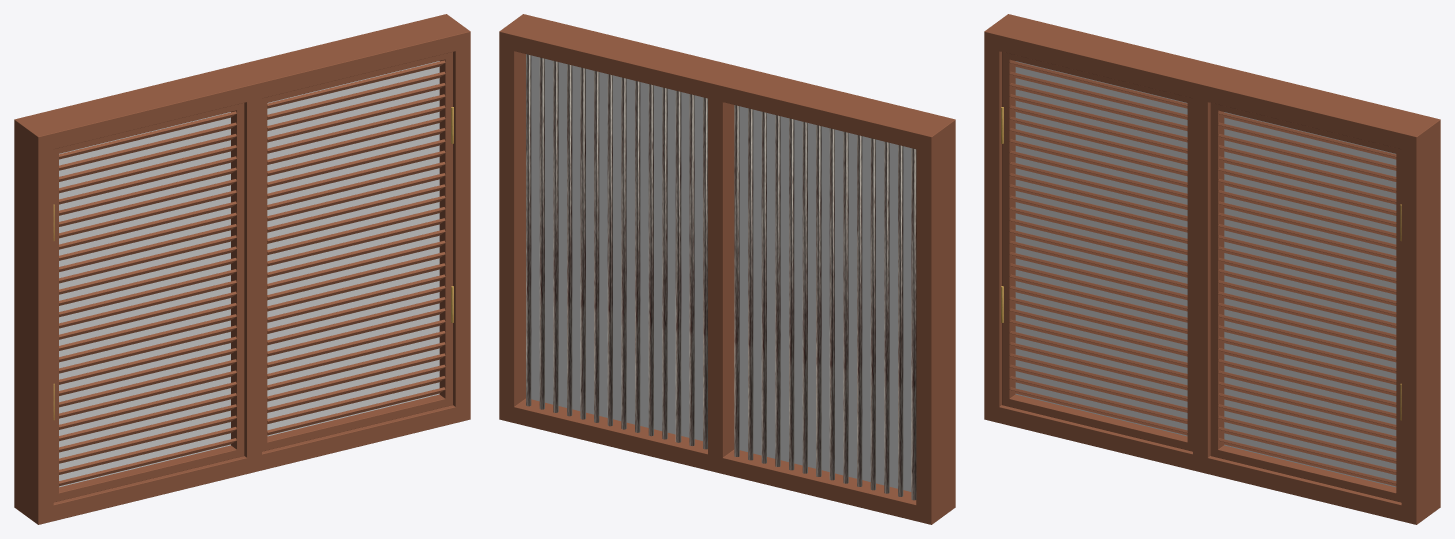
The model's file is jendela 1.fbx.
3 renders of one model, left to right at view 1: azimuth 30°, elevation 25°; view 2: azimuth 150°, elevation 25°; view 3: azimuth 330°, elevation 25°, orthographic.
Parts seen in each view (by area): view 1: kaca jendela, kerangka jendela, kaca.001, kaca, kerangka jendela.001, kerangka jendela.002; view 2: kaca jendela, kerangka jendela, jerjak.001, jerjak.002; view 3: kaca jendela, kerangka jendela, kaca.001, kaca, kerangka jendela.002, kerangka jendela.001.
Boxes of the visible parts, <box> form: kaca jendela: <box>59,61,439,487</box>; kerangka jendela: <box>14,14,470,524</box>; kaca.001: <box>267,60,445,435</box>; kaca: <box>59,111,236,486</box>; kerangka jendela.001: <box>53,103,244,502</box>; kerangka jendela.002: <box>262,52,452,451</box>; kaca jendela: <box>531,55,911,491</box>; kerangka jendela: <box>499,14,955,524</box>; jerjak.001: <box>526,54,707,449</box>; jerjak.002: <box>734,105,916,500</box>; kaca jendela: <box>1015,61,1396,487</box>; kerangka jendela: <box>984,14,1440,524</box>; kaca.001: <box>1218,111,1396,486</box>; kaca: <box>1009,60,1187,435</box>; kerangka jendela.002: <box>1210,103,1401,502</box>; kerangka jendela.001: <box>1002,52,1192,451</box>.
Bounding box in the file's own units: 140 × 120 × 13.55.
Materials: 4 (2 with a texture image).
